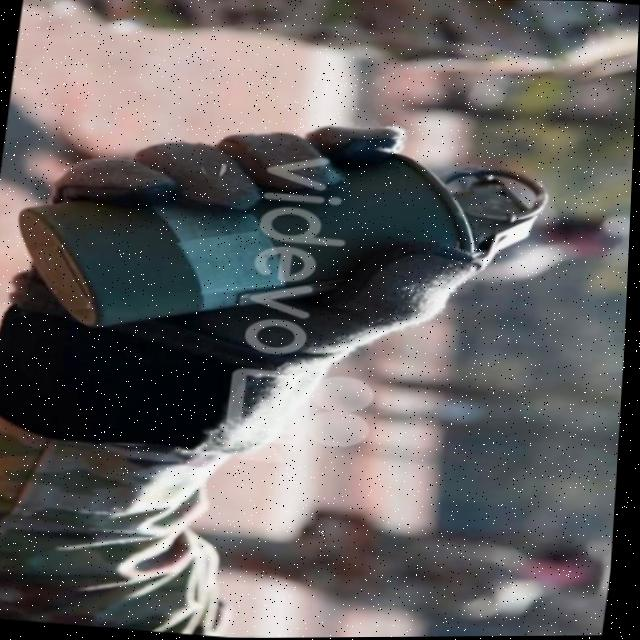grenade: (4, 104, 555, 372)
